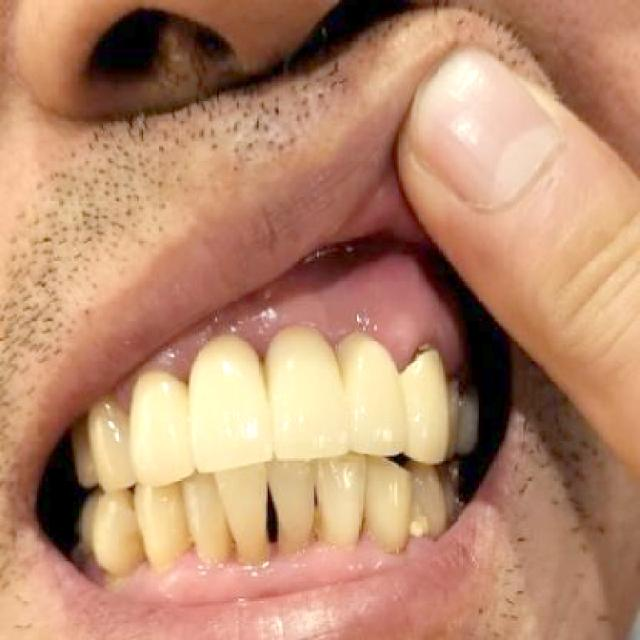Plaque: (411, 346, 448, 378), (371, 533, 409, 548), (234, 550, 271, 564)
